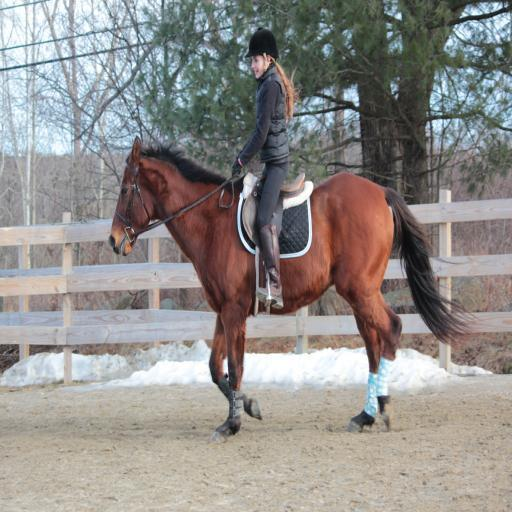horse: (108, 136, 484, 444)
